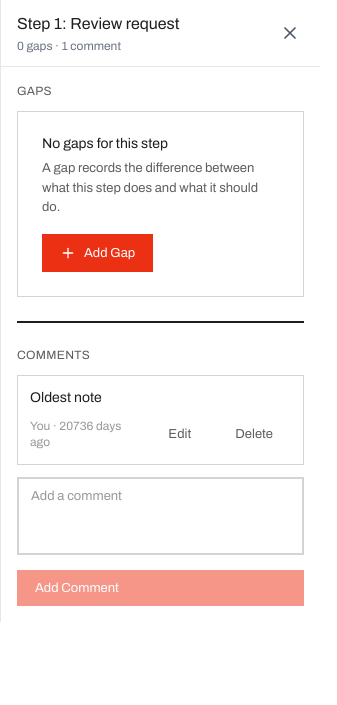
Test: CommentsSection in RightPanel › leaves the thread alone when an edit is cancelled
Click the button with aria-label "Edit comment:" at (180, 434), box [150,416,209,452]
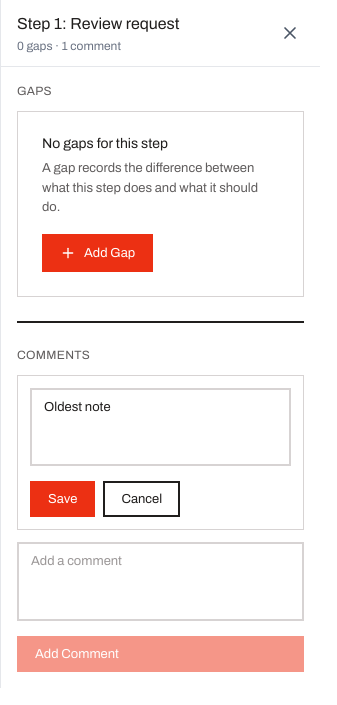
Replace the text in the text box named "Edit comment" with "Discarded" at (160, 427), box [30,388,291,466]
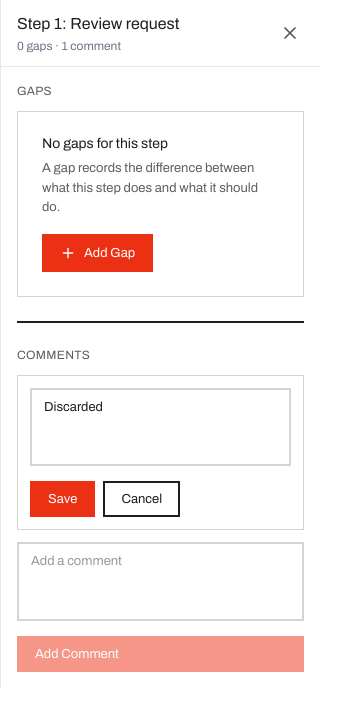
Click the button "Cancel" at (142, 499), box [104,481,180,517]
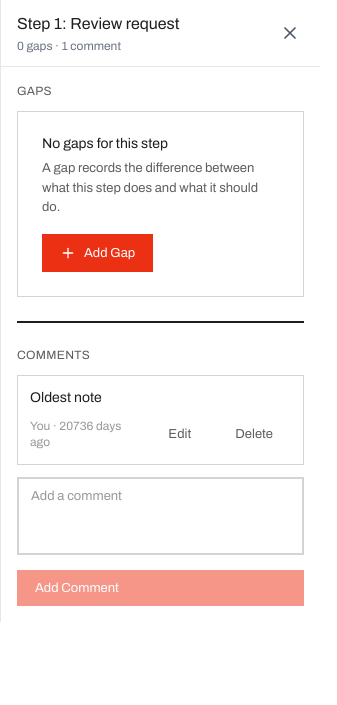
Expected: the text "Oldest note" is shown, [30,390,102,404]
